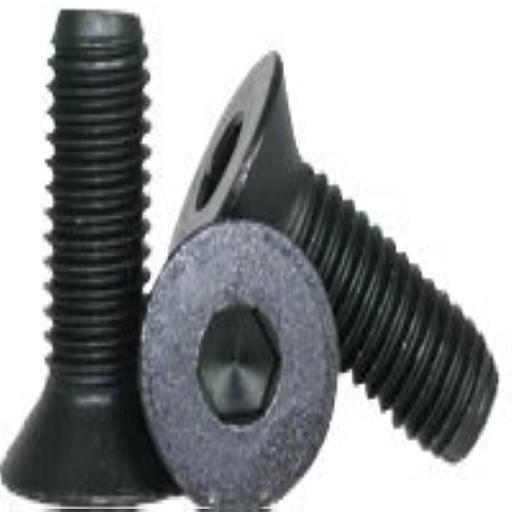Hex-Allen: (140, 218, 338, 512)
